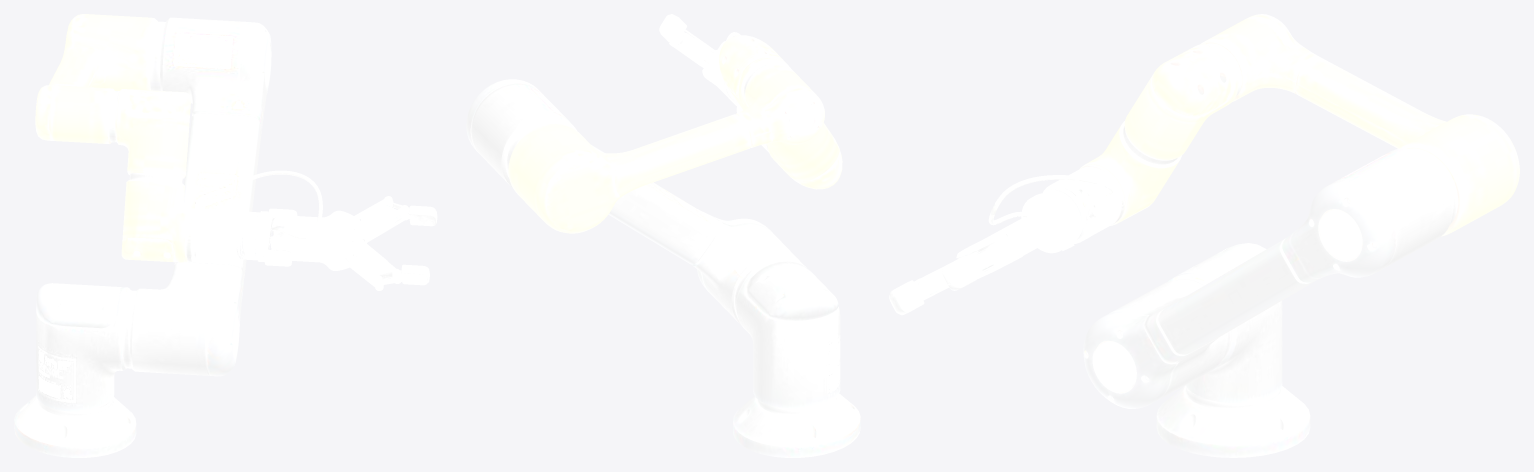
The model's file is present_11.glb.
3 renders of one model, left to right at view 1: azimuth 30°, elevation 25°; view 2: azimuth 150°, elevation 25°; view 3: azimuth 270°, elevation 25°, orthographic. The views are drawn at different scales.
Parts seen in each view (by area): view 1: item3, item7, item2, item4, item5, item1, item6; view 2: item4, item3, item2, item1, item6, item5, item7; view 3: item3, item4, item7, item5, item1, item2, item6.
Part boxes in pixels (x1,y1,x2,y2): item3: (130, 17, 271, 376); item7: (190, 170, 437, 290); item2: (36, 283, 136, 411); item4: (35, 14, 157, 143); item5: (115, 89, 190, 182); item1: (14, 395, 136, 457); item6: (121, 179, 195, 262); item4: (508, 63, 824, 233); item3: (466, 79, 803, 325); item2: (735, 257, 840, 408); item1: (733, 394, 860, 457); item6: (766, 123, 842, 189); item5: (719, 35, 790, 110); item7: (659, 14, 768, 152); item3: (1083, 148, 1458, 408); item4: (1201, 14, 1519, 236); item7: (889, 166, 1121, 315); item5: (1123, 43, 1238, 164); item1: (1156, 385, 1310, 457); item2: (1168, 243, 1282, 402); item6: (1080, 121, 1181, 225).
Size of the model in its own units: 0.7967 by 0.8432 by 1.19.
Materials: 2 (2 with a texture image).
